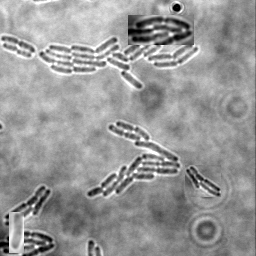Dividing: (1, 34, 37, 52), (3, 41, 33, 57)
Microcolony: (40, 18, 199, 89), (87, 120, 181, 197), (128, 15, 194, 45), (5, 184, 52, 226), (1, 230, 56, 255), (185, 165, 221, 197), (9, 212, 24, 253)
